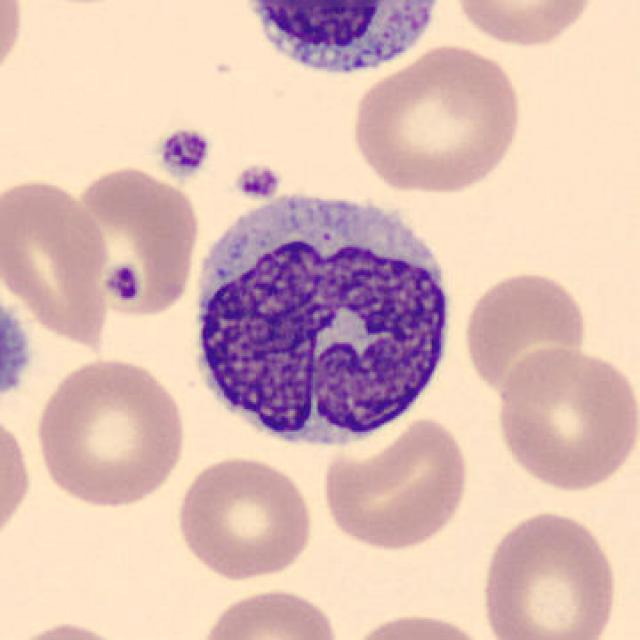Monocyte: (183, 178, 461, 458), (224, 0, 455, 90)
Platelets: (0, 280, 39, 412), (155, 125, 213, 182), (231, 160, 285, 203), (101, 259, 144, 309)
RBC: (343, 41, 526, 196), (30, 354, 190, 510), (62, 162, 203, 323), (491, 342, 638, 494), (318, 411, 473, 554), (0, 171, 112, 351), (477, 506, 622, 640), (172, 453, 316, 582), (459, 264, 590, 402), (192, 583, 345, 640), (448, 0, 601, 49), (340, 608, 496, 640), (0, 407, 34, 552), (2, 617, 140, 640), (0, 0, 28, 91)
